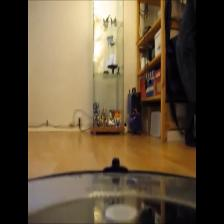fire: (92, 0, 119, 68)
